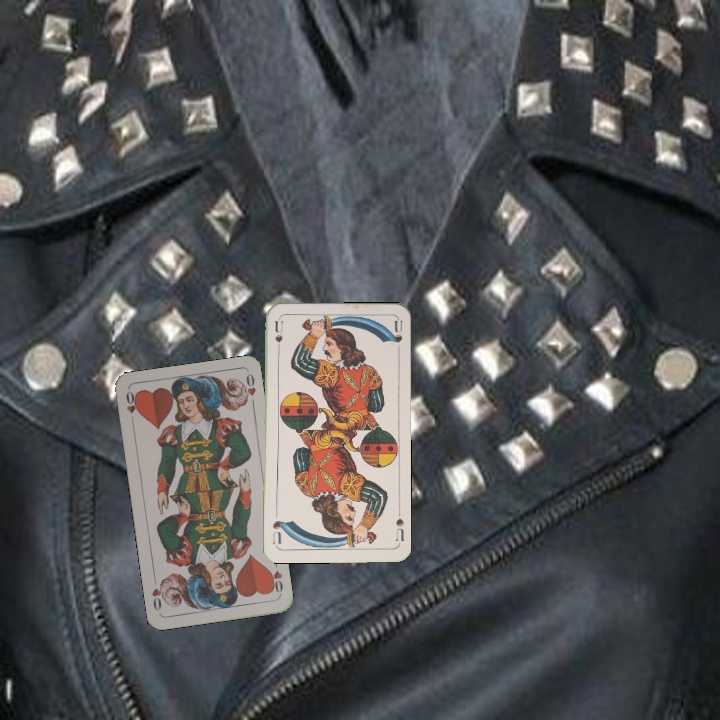HO: (265, 556, 285, 597), (122, 387, 140, 427)
SU: (271, 318, 285, 358), (392, 514, 407, 543)
